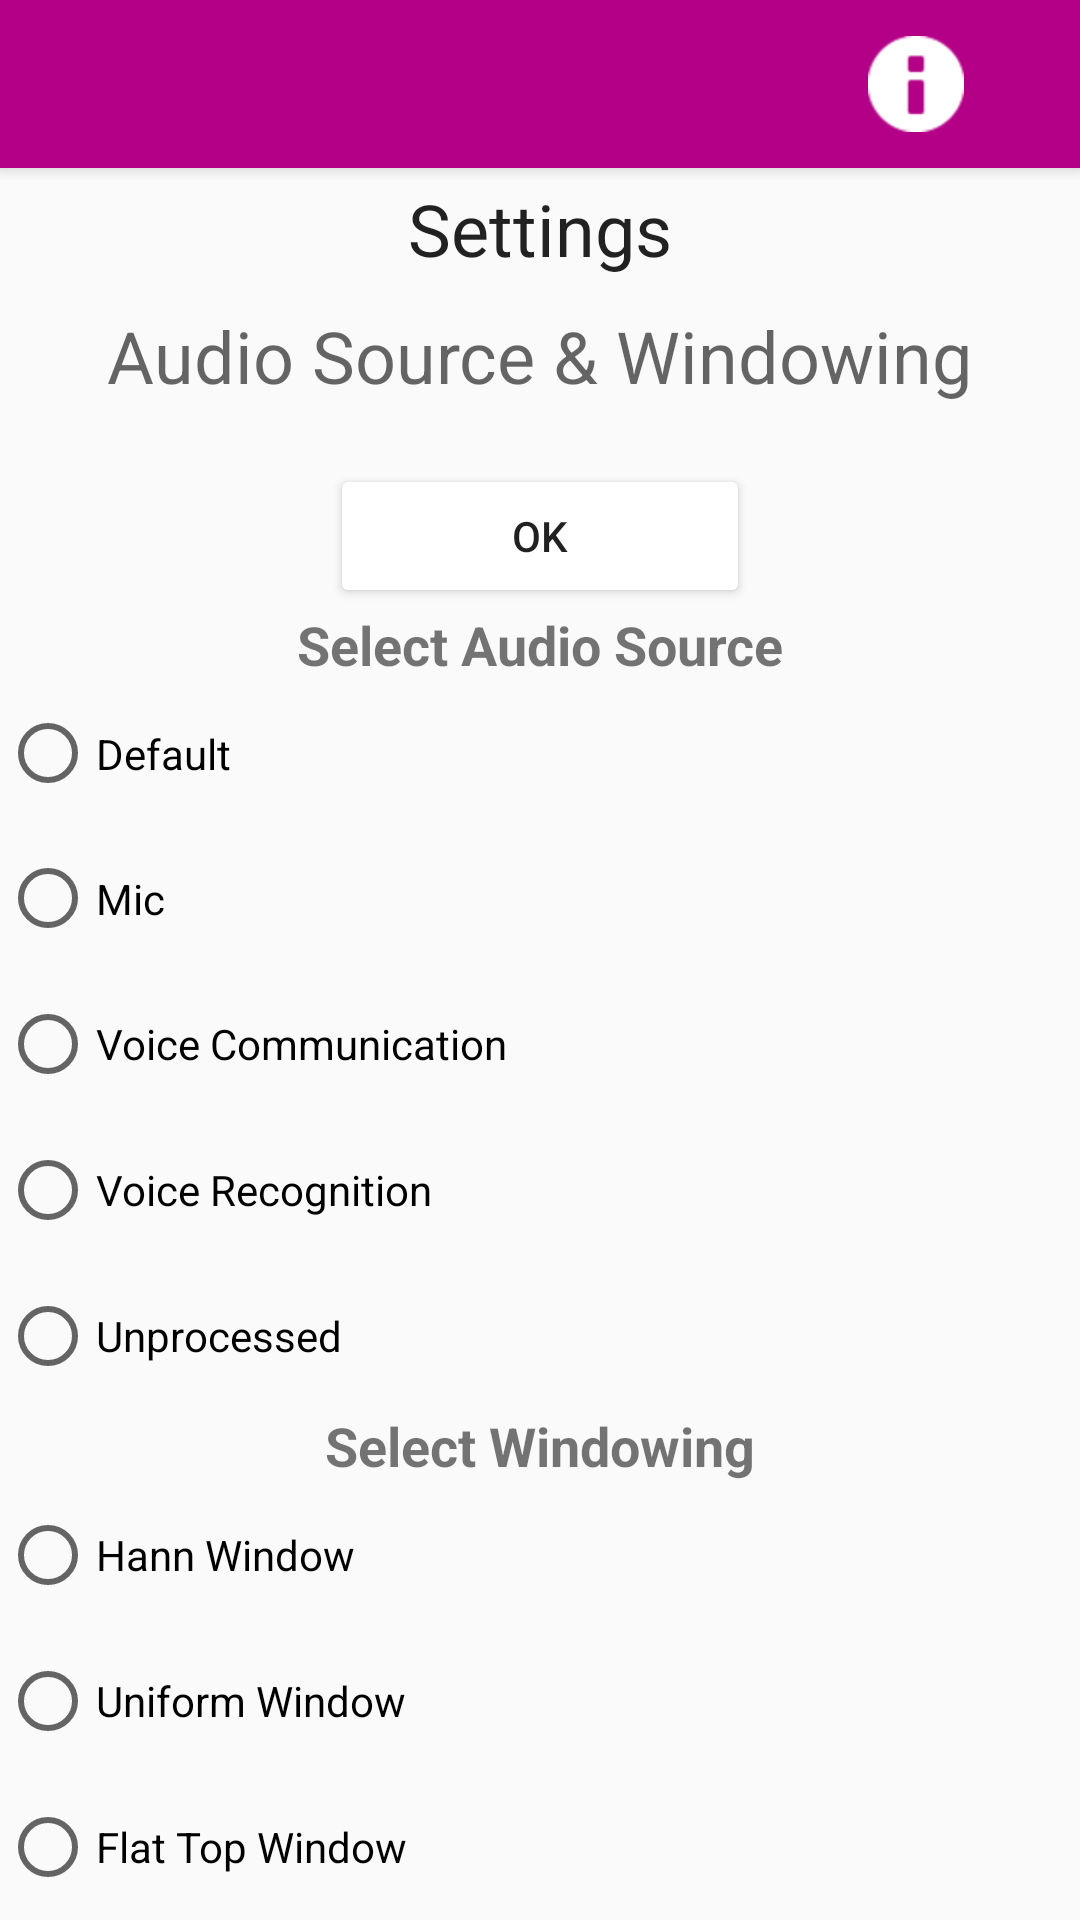

Icons on this 1080px×1920px Android screen, each with the point to tap as (x=x, y=y):
info: (x=916, y=84)
